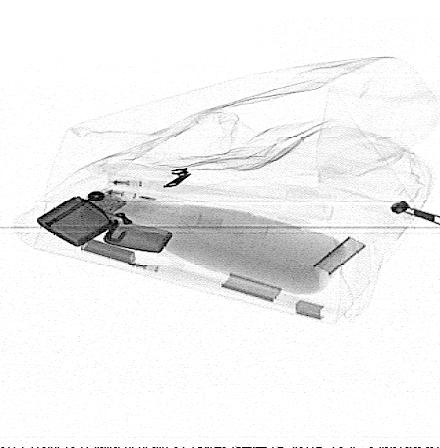Lighter: (36, 189, 174, 253)
